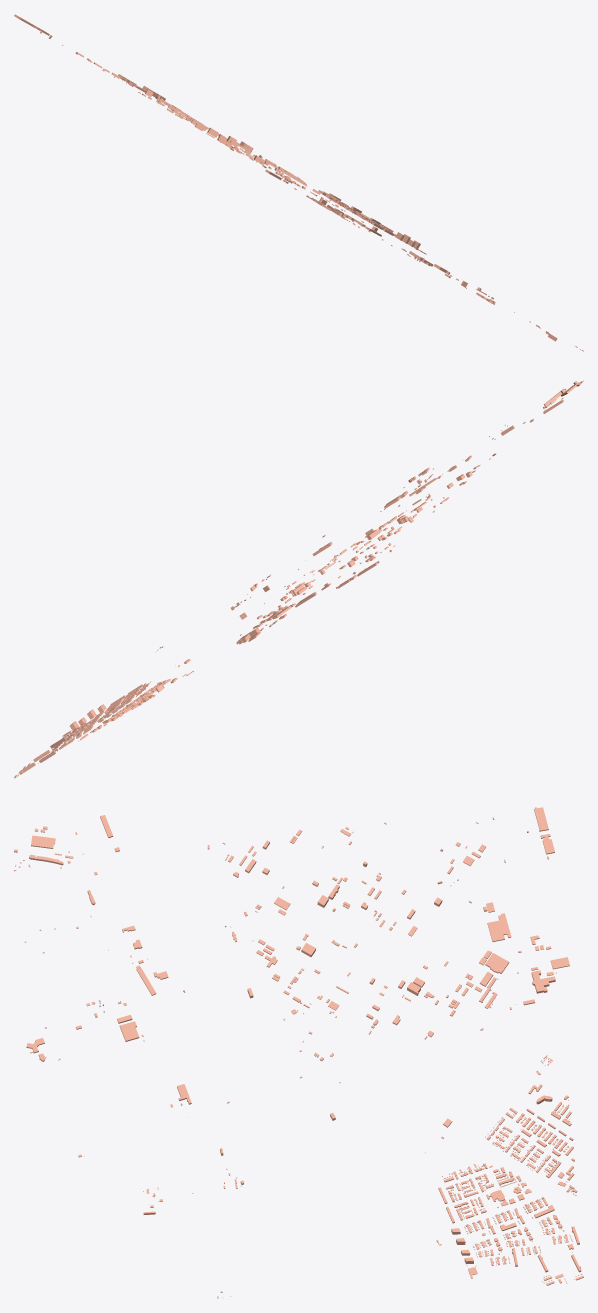
3 views of the same model, one above another, from view 1: azimuth 30°, elevation 25°; view 2: azimuth 150°, elevation 25°; view 3: azimuth 270°, elevation 25° (orthographic). The views are drawn at different scales.
Size of the model in its own units: 2004 by 1509 by 2543.
